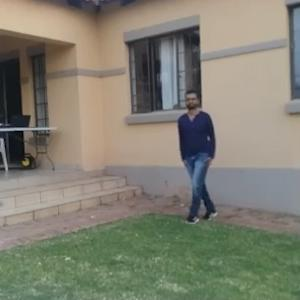follow: (178, 87, 223, 223)
